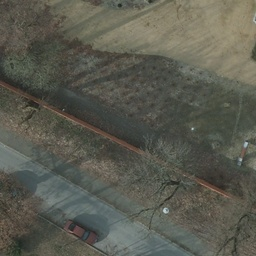car: (65, 220, 98, 245)
